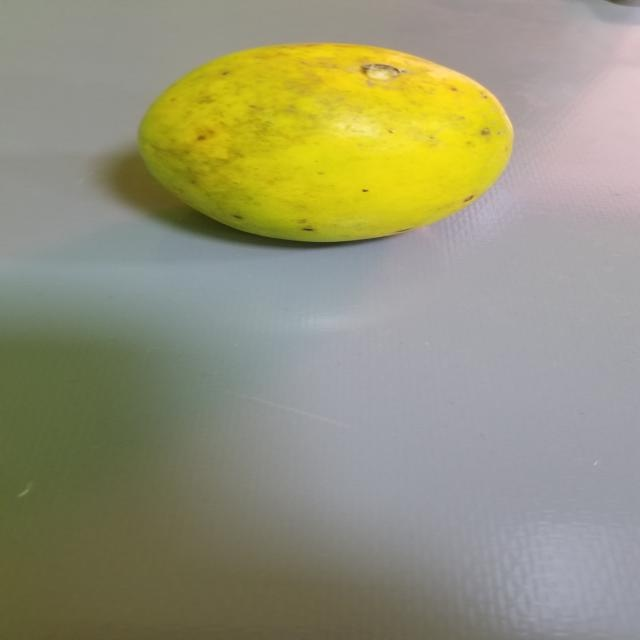agrume: (128, 35, 532, 255)
